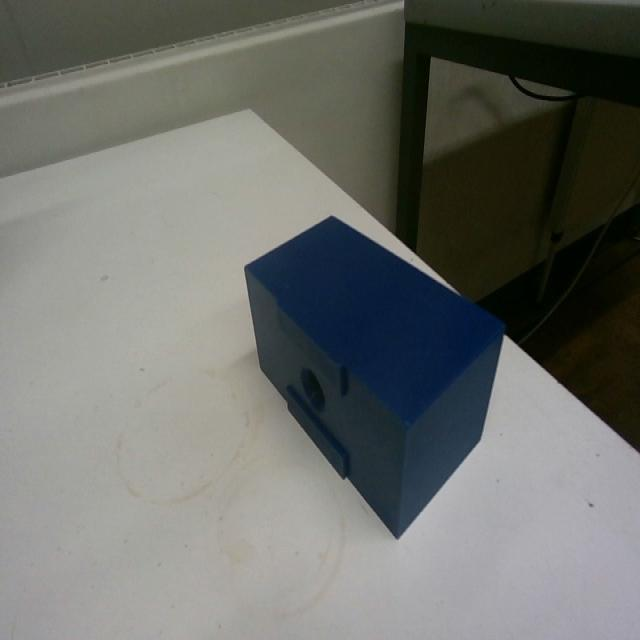Blue Cuboid: (241, 209, 507, 539)
